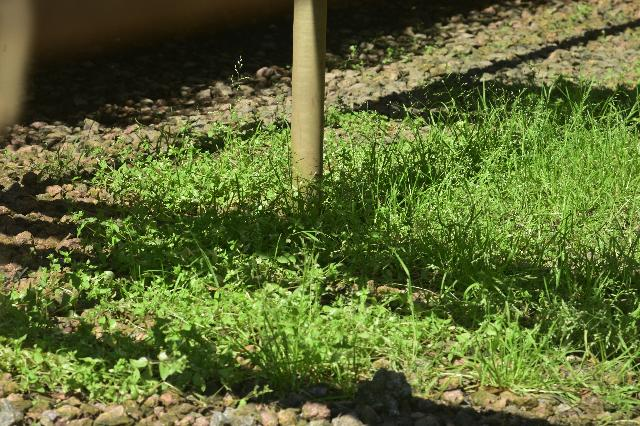MalezaMontesDelPlata: (425, 86, 640, 277), (1, 139, 285, 253), (140, 251, 335, 394), (461, 270, 640, 411), (0, 243, 126, 401), (336, 273, 465, 397), (325, 110, 423, 260)
